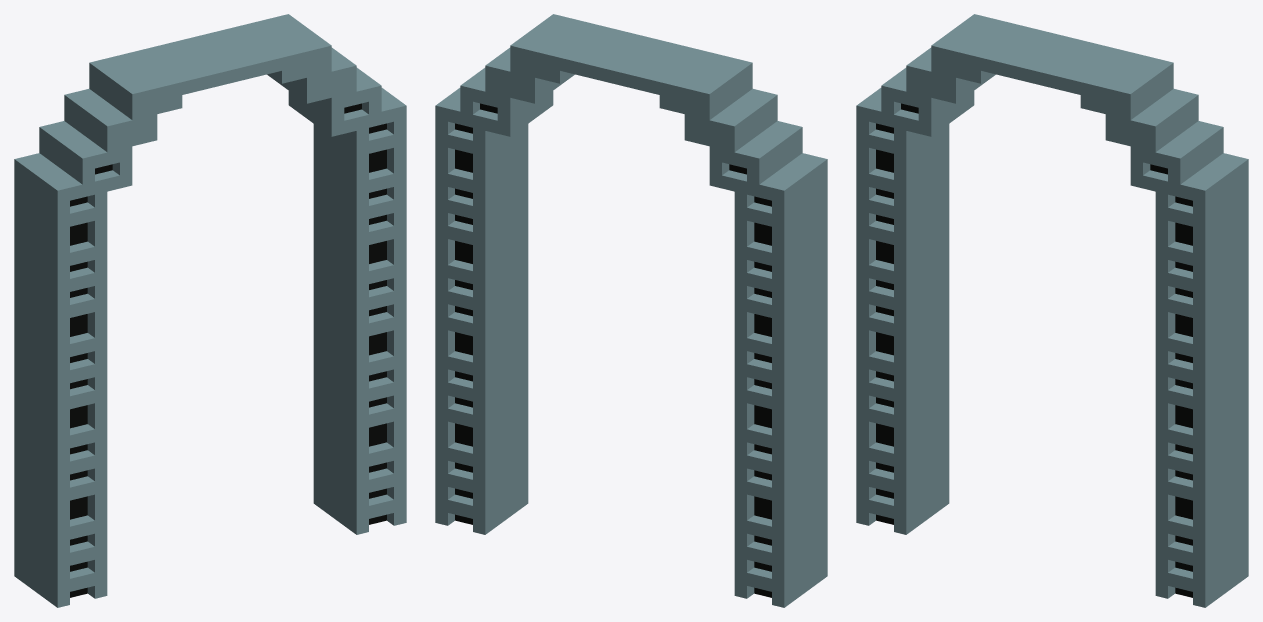
The model's file is arch.dae.
3 views of the same model, side by side, from view 1: azimuth 30°, elevation 25°; view 2: azimuth 150°, elevation 25°; view 3: azimuth 330°, elevation 25° (orthographic).
Parts seen in each view (by area): view 1: arch; view 2: arch; view 3: arch.
Part boxes in pixels (bbox=[...]): arch: bbox=[14, 14, 406, 607]; arch: bbox=[435, 14, 827, 607]; arch: bbox=[856, 14, 1248, 607].
Bounding box in the file's own units: 2.8 × 3.8 × 0.6.
1 material, 1 textured.
